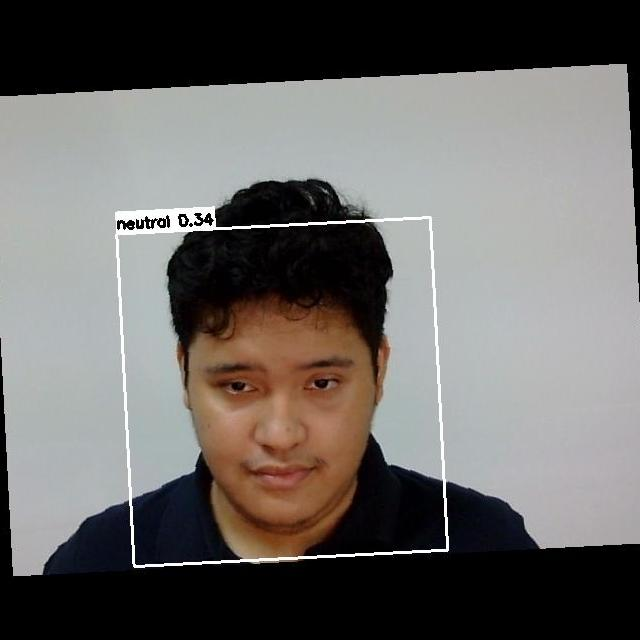Sad: (192, 328, 377, 492)
